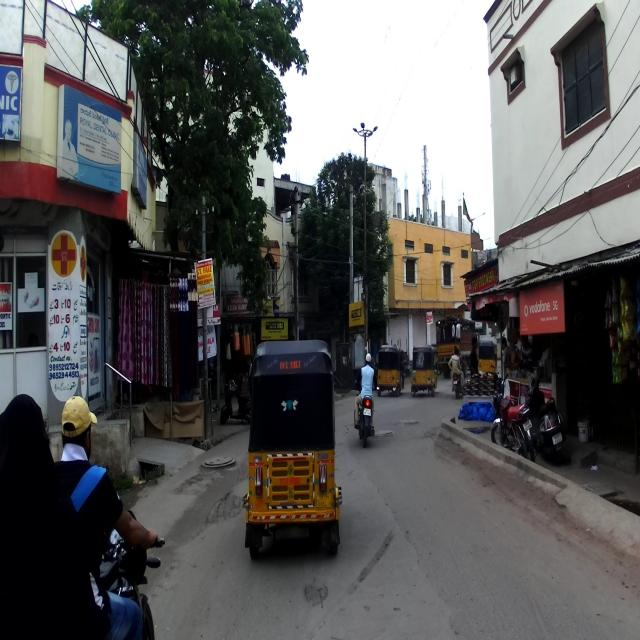autorickshaw: (241, 336, 343, 558)
motorcycle: (23, 498, 164, 639), (490, 371, 540, 465), (352, 375, 378, 447)
scooter: (525, 370, 570, 464)
